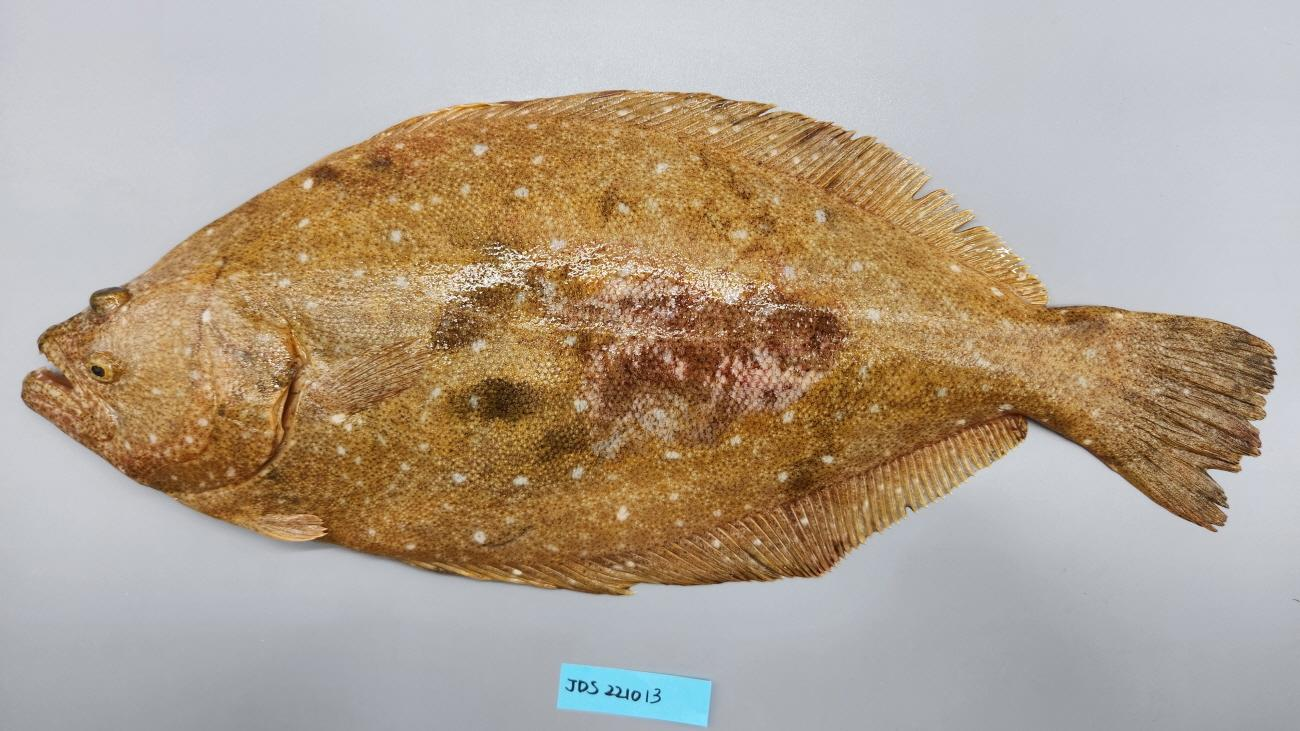POOUN: (22, 89, 1280, 595)
